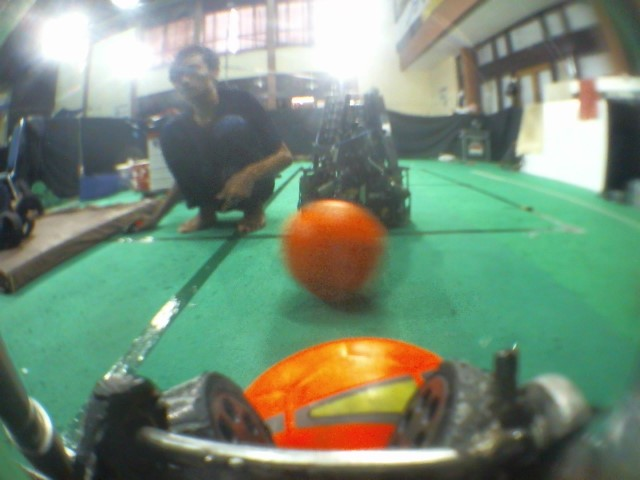ball: (236, 331, 452, 448), (276, 197, 401, 315)
